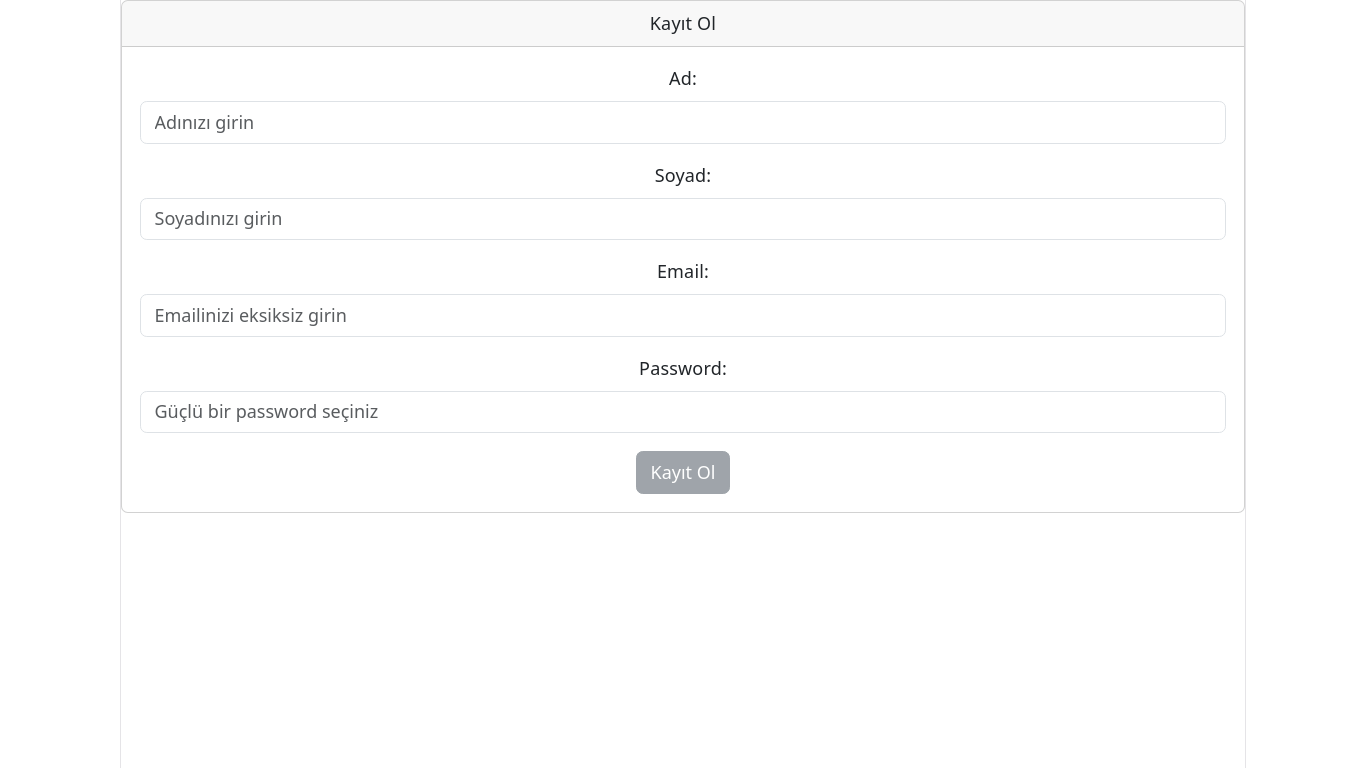
Register Page › Error Messages › surname input throws error for 2 chars
The image size is (1366, 768).
Type "ca" into the field with test id "soyad-input" at point(683, 220), box 140,198 -> 1226,241
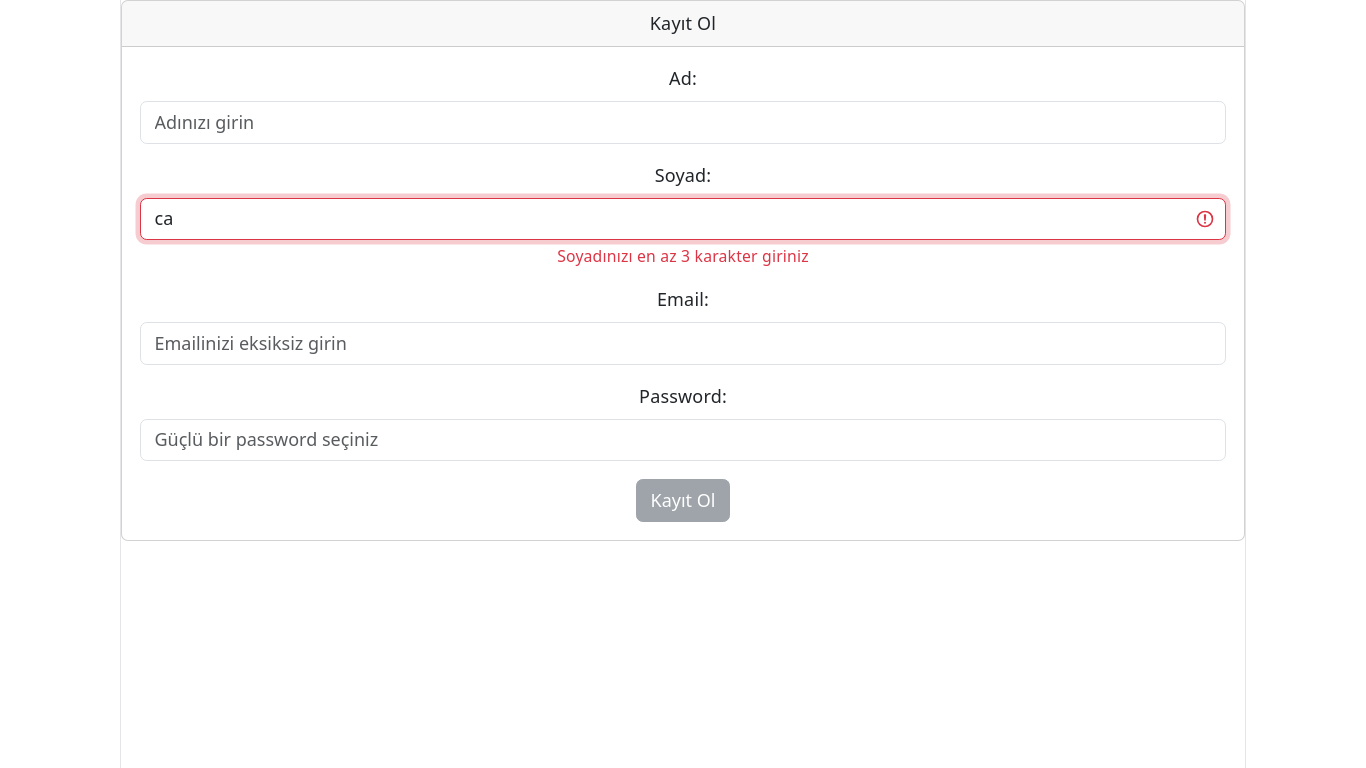
Expected: the text "Soyadınızı en az 3 karakter giriniz" is shown, 557,244 -> 809,266
